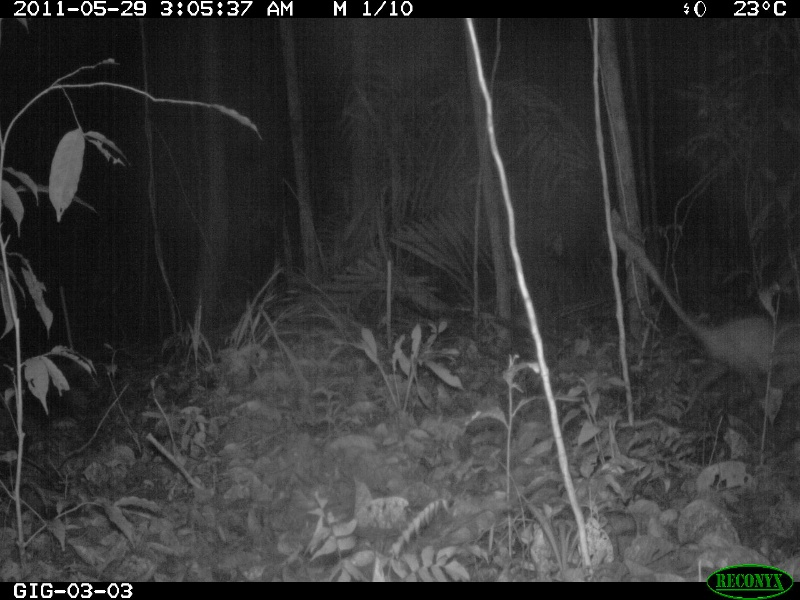opossum: (614, 220, 800, 405)
